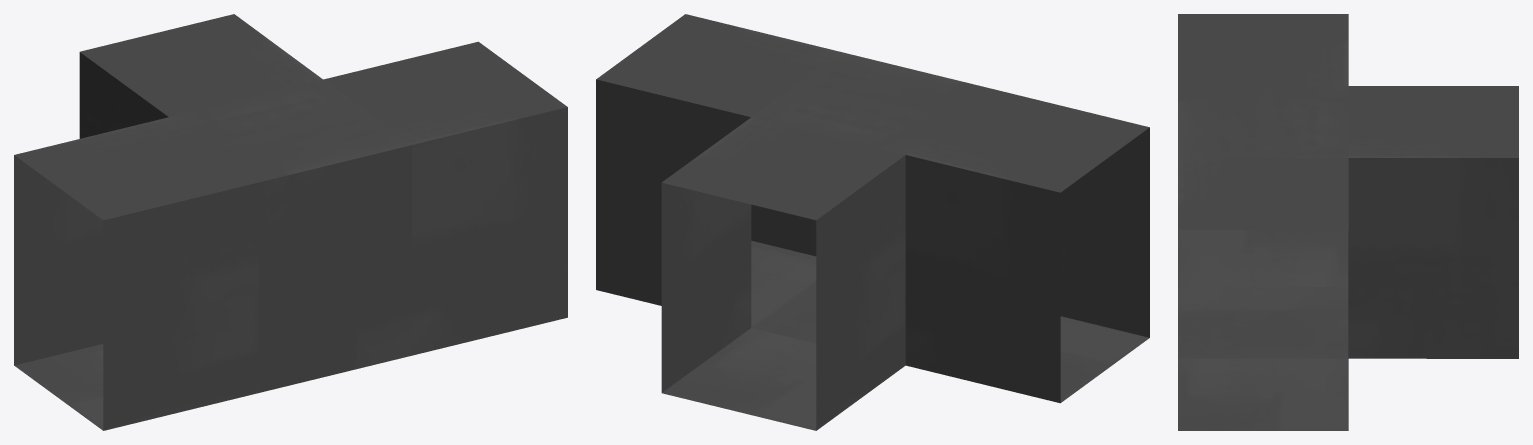
File: En_W_wallVent4.fbx
3 renders of one model, left to right at view 1: azimuth 30°, elevation 25°; view 2: azimuth 150°, elevation 25°; view 3: azimuth 270°, elevation 25°, orthographic. The views are drawn at different scales.
Visible parts, largest first — view 1: En_W_wallVent4; view 2: En_W_wallVent4; view 3: En_W_wallVent4.
Part boxes in pixels (x1,y1,x2,y2): En_W_wallVent4: (14,14,567,430); En_W_wallVent4: (596,14,1149,430); En_W_wallVent4: (1178,14,1518,430).
Bounding box in the file's own units: 300 × 130 × 200.
